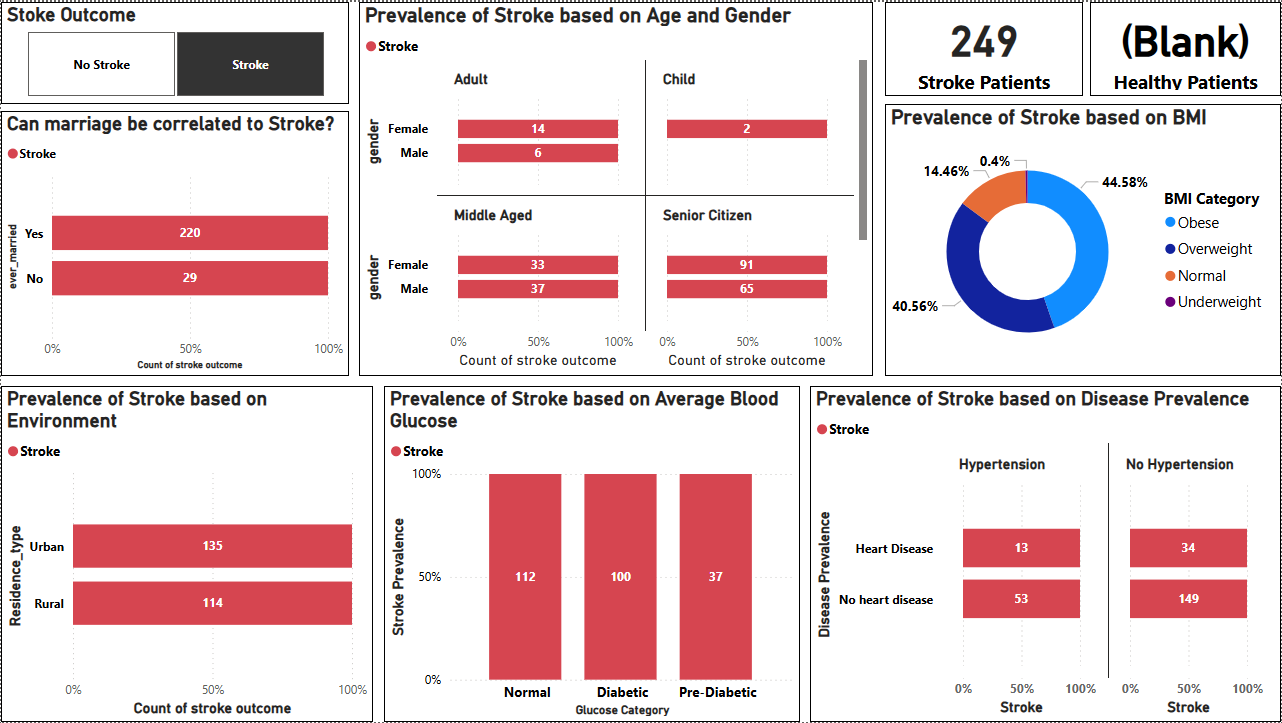

The dashboard page shown, as its layout file describes it:
{"tool":"powerbi","page":{"name":"Stroke Data","canvas":[1280,720],"ordinal":0},"visuals":[{"type":"hundredPercentStackedBarChart","title":"Prevalence of Stroke based on Age and Gender","fields":{"Category":["Stroke Data.gender"],"Y":["CountNonNull(Stroke Data.stroke outcome)"],"Rows":["Stroke Data.Age Group"],"Series":["Stroke Data.stroke outcome"]},"box":[358,0,514.5,373.9],"z":0},{"type":"hundredPercentStackedBarChart","title":"Prevalence of Stroke based on Disease Prevalence","fields":{"Y":["CountNonNull(Stroke Data.stroke outcome)"],"Series":["Stroke Data.stroke outcome"],"Category":["Stroke Data.Heart disease outcome"],"Rows":["Stroke Data.Hypertension outcome"]},"box":[809,384,471,336],"z":1000},{"type":"donutChart","title":"Prevalence of Stroke based on BMI","fields":{"Category":["Stroke Data.BMI Category"],"Y":["CountNonNull(Stroke Data.stroke outcome)"]},"box":[884,102,396,272],"z":2000},{"type":"hundredPercentStackedColumnChart","title":"Prevalence of Stroke based on Average Blood Glucose","fields":{"Y":["CountNonNull(Stroke Data.stroke outcome)"],"Series":["Stroke Data.stroke outcome"],"Category":["Stroke Data.Glucose Category"]},"box":[382.6,384.1,415.9,336.2],"z":3000},{"type":"hundredPercentStackedBarChart","title":"Prevalence of Stroke based on Environment","fields":{"Category":["Stroke Data.Residence_type"],"Y":["CountNonNull(Stroke Data.stroke outcome)"],"Series":["Stroke Data.stroke outcome"]},"box":[0,384.1,372.5,336.2],"z":4000},{"type":"slicer","title":"Stoke Outcome","fields":{"Values":["Stroke Data.stroke outcome"]},"box":[0,0,348,102],"z":5000},{"type":"hundredPercentStackedBarChart","title":"Can marriage be correlated to Stroke?","fields":{"Category":["Stroke Data.ever_married"],"Y":["CountNonNull(Stroke Data.stroke outcome)"],"Series":["Stroke Data.stroke outcome"]},"box":[0,109,348,265],"z":6000},{"type":"card","fields":{"Values":["CountNonNull(Stroke Data.stroke outcome)"]},"box":[884,0,198,94],"z":6001},{"type":"card","fields":{"Values":["CountNonNull(Stroke Data.stroke outcome)"]},"box":[1089,0,191,94],"z":6002}]}

Visuals, with their boxes in screenshot pixels (x1, y1, x2, y2), scaled from the page's 1280x720 canvas onto the 1282x723 screenshot:
"Prevalence of Stroke based on Age and Gender" hundredPercentStackedBarChart: 359 0 874 375
"Prevalence of Stroke based on Disease Prevalence" hundredPercentStackedBarChart: 810 386 1281 722
"Prevalence of Stroke based on BMI" donutChart: 885 102 1281 376
"Prevalence of Stroke based on Average Blood Glucose" hundredPercentStackedColumnChart: 383 386 800 722
"Prevalence of Stroke based on Environment" hundredPercentStackedBarChart: 0 386 373 722
"Stoke Outcome" slicer: 0 0 349 102
"Can marriage be correlated to Stroke?" hundredPercentStackedBarChart: 0 109 349 376
card - CountNonNull(Stroke Data.stroke outcome): 885 0 1084 94
card - CountNonNull(Stroke Data.stroke outcome): 1091 0 1281 94
